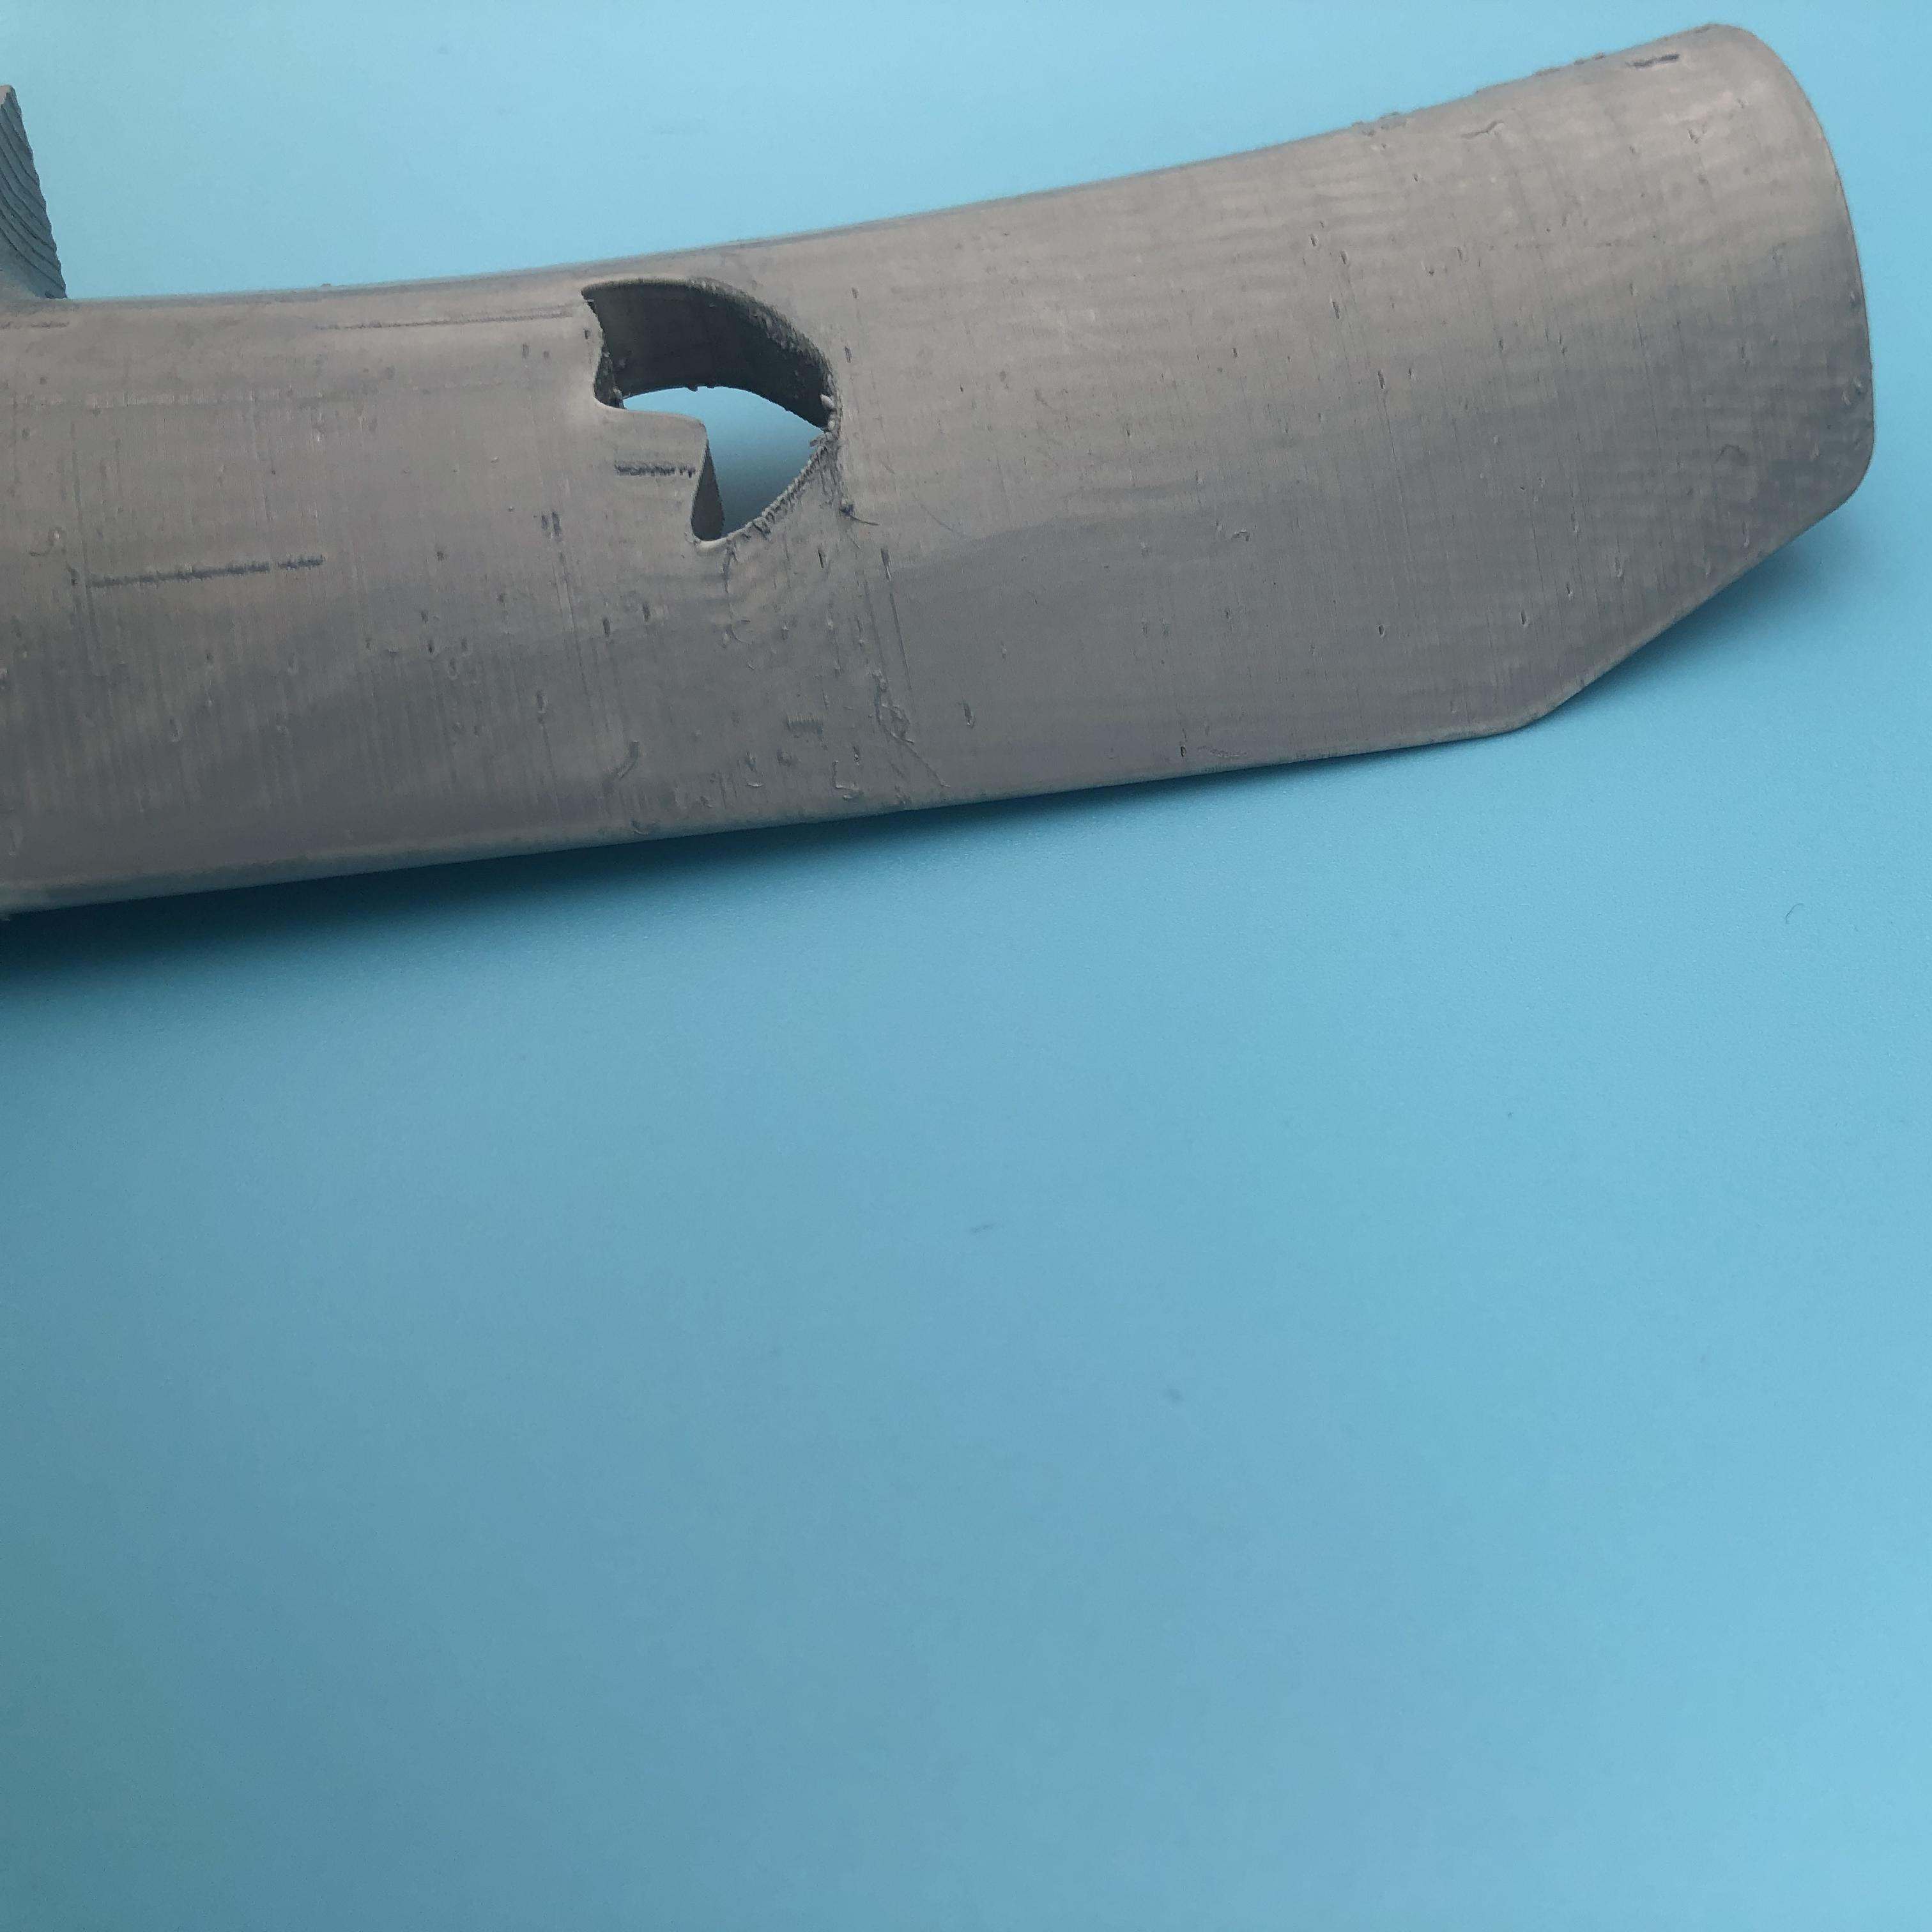breakdown: (573, 280, 842, 552)
